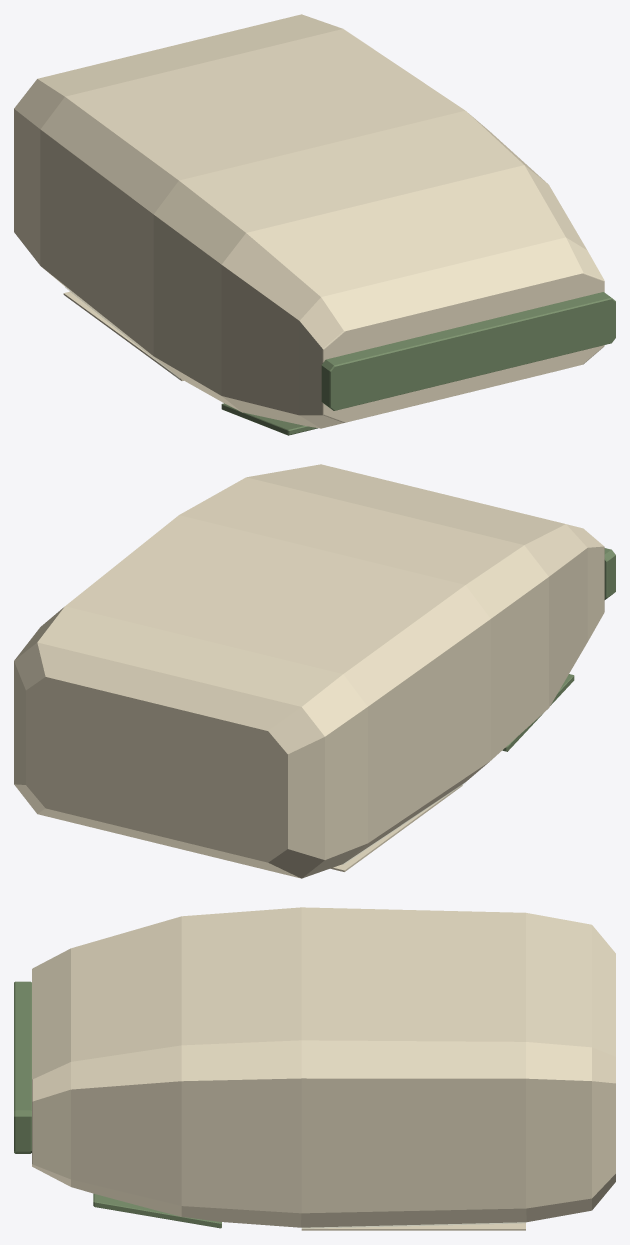
The model's file is dried_peas.glb.
3 renders of one model, top to bottom at view 1: azimuth 30°, elevation 25°; view 2: azimuth 150°, elevation 25°; view 3: azimuth 270°, elevation 25°, orthographic. The views are drawn at different scales.
Visible parts, largest first — view 1: dried_peas; view 2: dried_peas; view 3: dried_peas.
Boxes of the visible parts, x1,y1,x2,y2 form: dried_peas: (14,14,615,435); dried_peas: (14,464,615,878); dried_peas: (14,907,615,1230).
Bounding box in the file's own units: 0.1236 × 0.0706 × 0.201.
